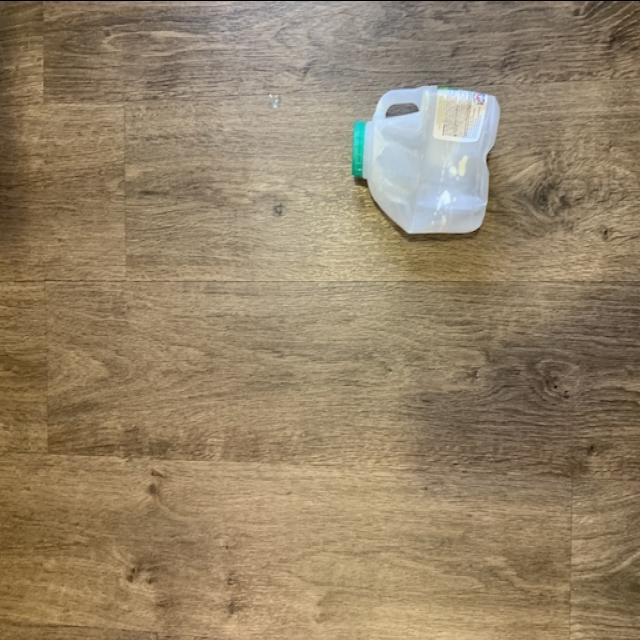HDPEM: (344, 76, 512, 242)
